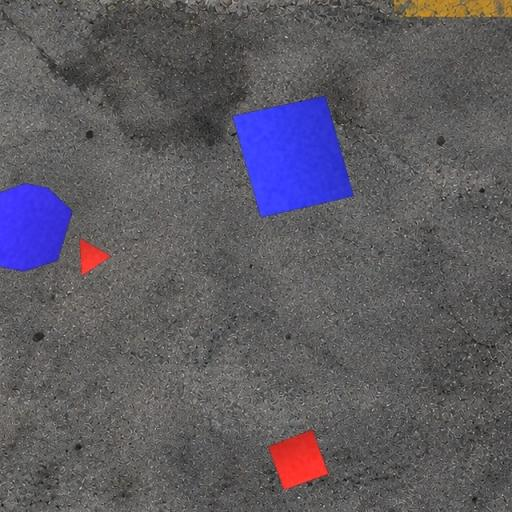BLUE_SQUARE: (231, 96, 355, 218)
RED_SQUARE: (267, 429, 330, 491)
